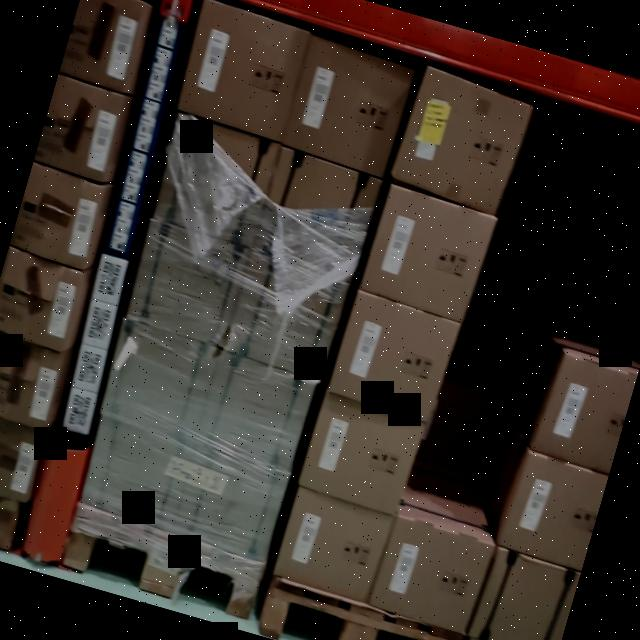box: (394, 64, 532, 214), (281, 34, 418, 178), (172, 0, 312, 139), (361, 188, 495, 322), (219, 254, 348, 384), (250, 148, 381, 276), (148, 117, 276, 246), (328, 296, 456, 424), (120, 222, 246, 346), (271, 478, 395, 601), (368, 514, 492, 637), (198, 352, 318, 470), (75, 417, 196, 532), (175, 442, 290, 560), (303, 400, 420, 512), (100, 326, 216, 438), (464, 546, 580, 640)
